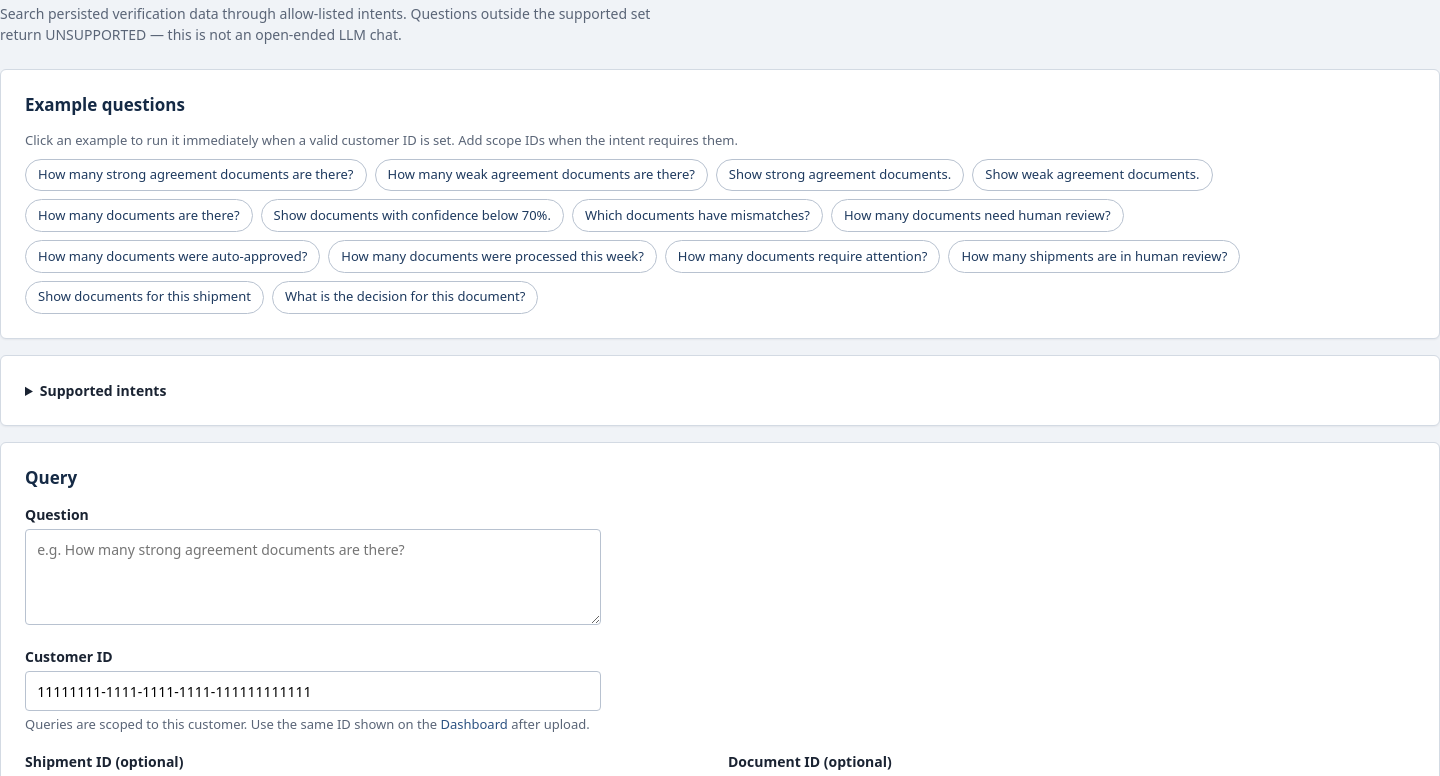
Test case: QueryPage › ignores stale responses when a newer query finishes first
Click the list item "How many documents are there?" at (139, 216), box [25,199,252,232]
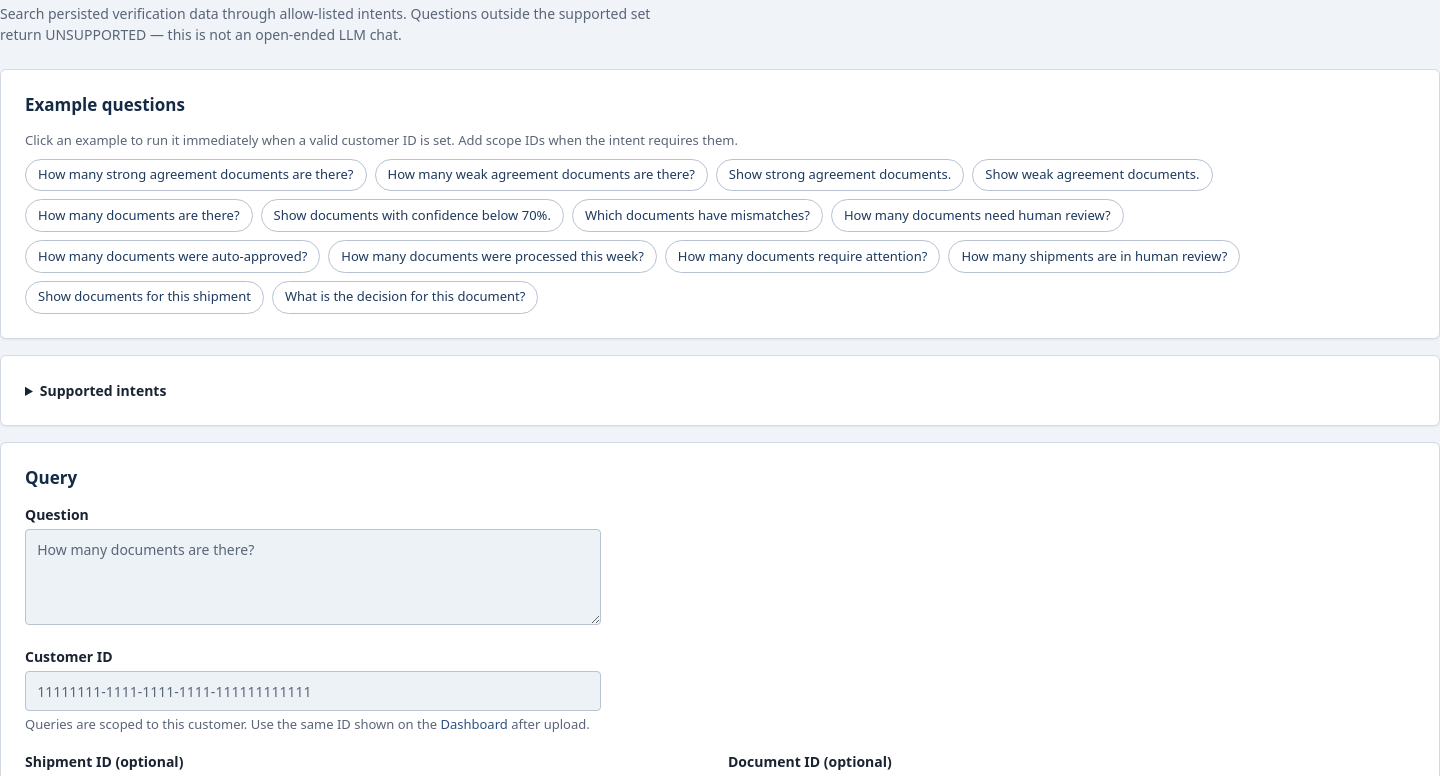
Click the list item "How many documents need human review?" at (977, 216), box [831,199,1124,232]
(page scrolled)
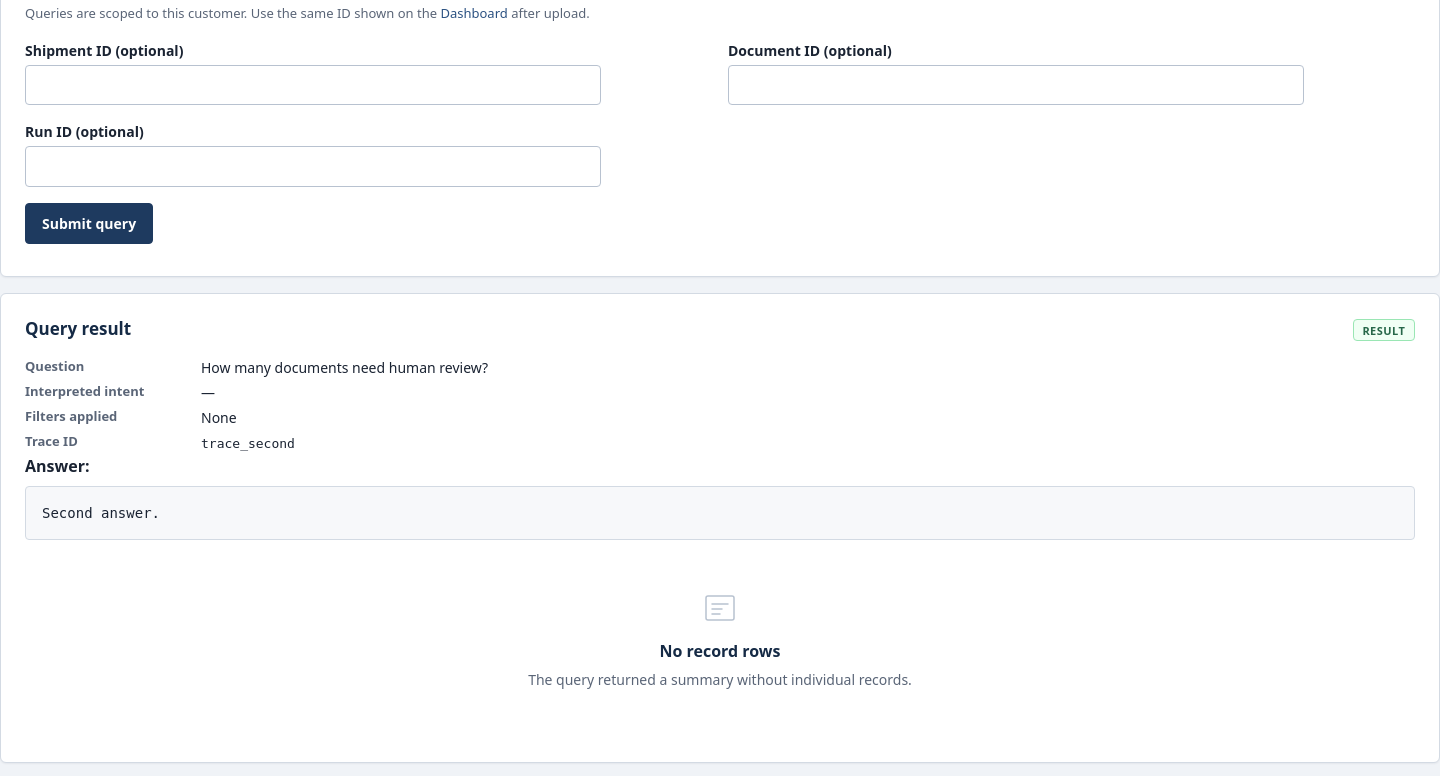
expect the text "Second answer." is shown: met, box [25,486,1415,540]
